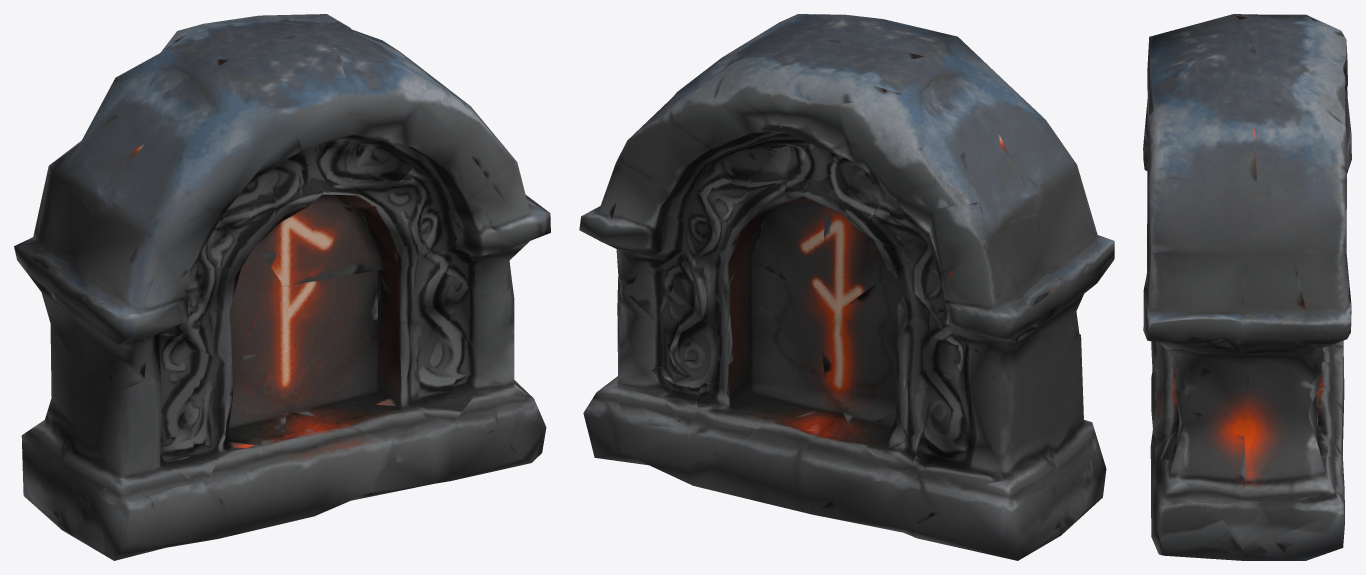
Rendered from arch_keystone.glb.
3 renders of one model, left to right at view 1: azimuth 30°, elevation 25°; view 2: azimuth 150°, elevation 25°; view 3: azimuth 270°, elevation 25°, orthographic. The views are drawn at different scales.
Size of the model in its own units: 2 by 1.93 by 0.8714.
Materials: 1 (1 with a texture image).
